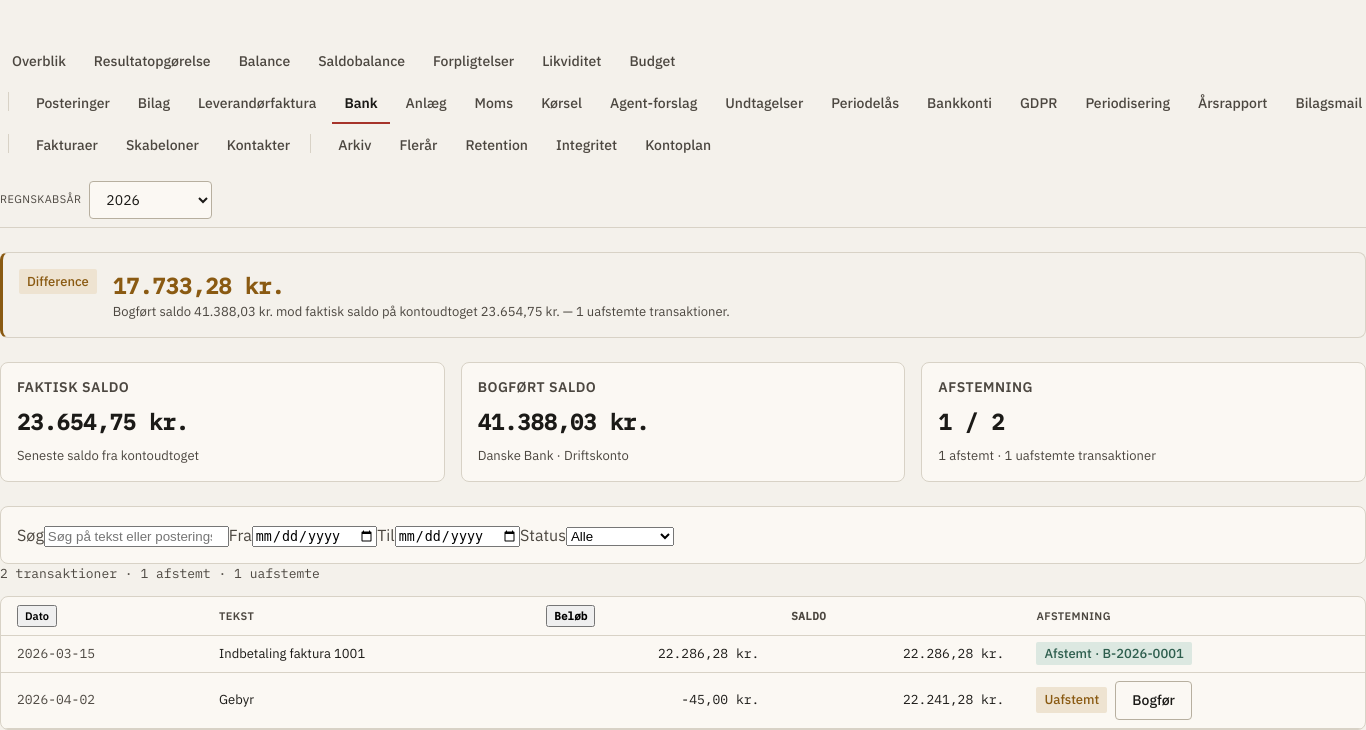
Test case: BankView — Bank › clicking Bogfør opens the bank-reconcile modal seeded with the row
(page scrolled)
Click the button "Bogfør": [1154, 700] box 1115,681 -> 1192,720
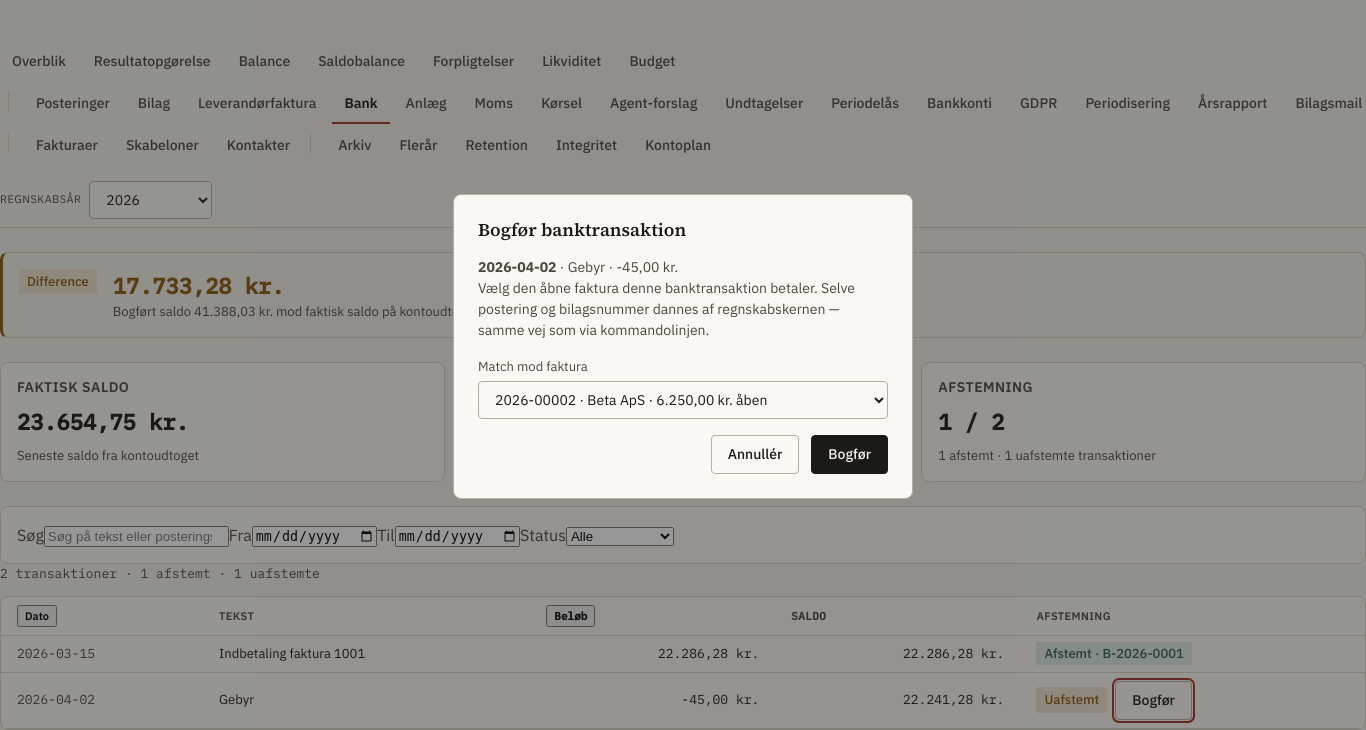
Now the dialog "Bogfør banktransaktion" is shown, box 453,194 -> 913,498
Now the text "2026-04-02 · Gebyr · -45,00 kr." is shown, box 478,258 -> 678,276
